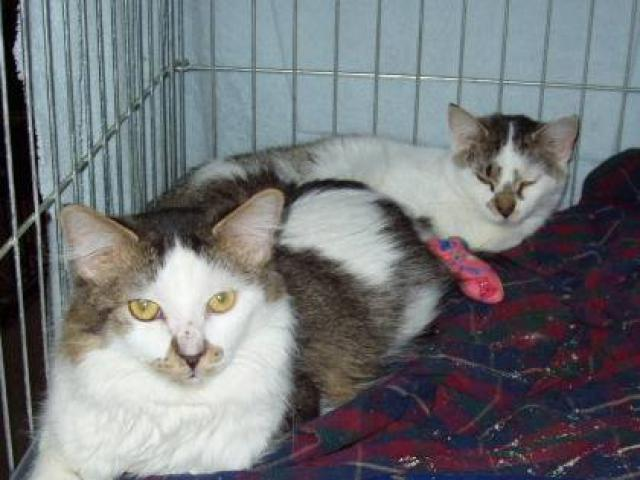cat: (52, 120, 581, 467), (14, 160, 443, 480)
